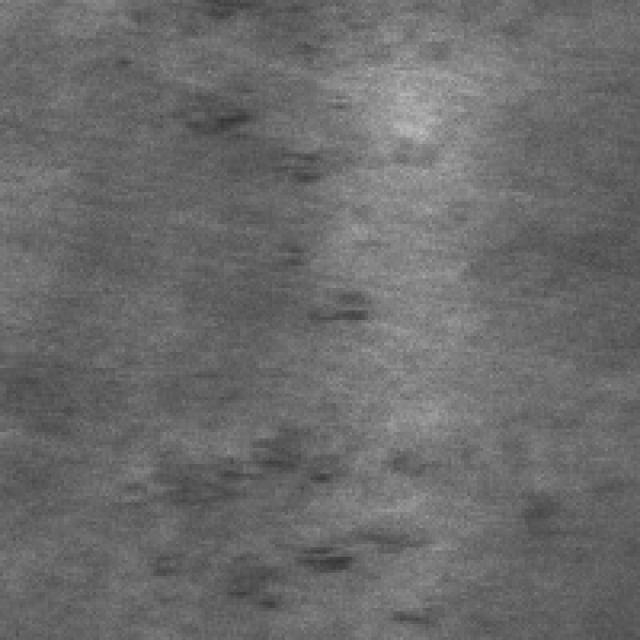rolled-in_scale: (195, 36, 384, 327), (160, 426, 445, 592)
